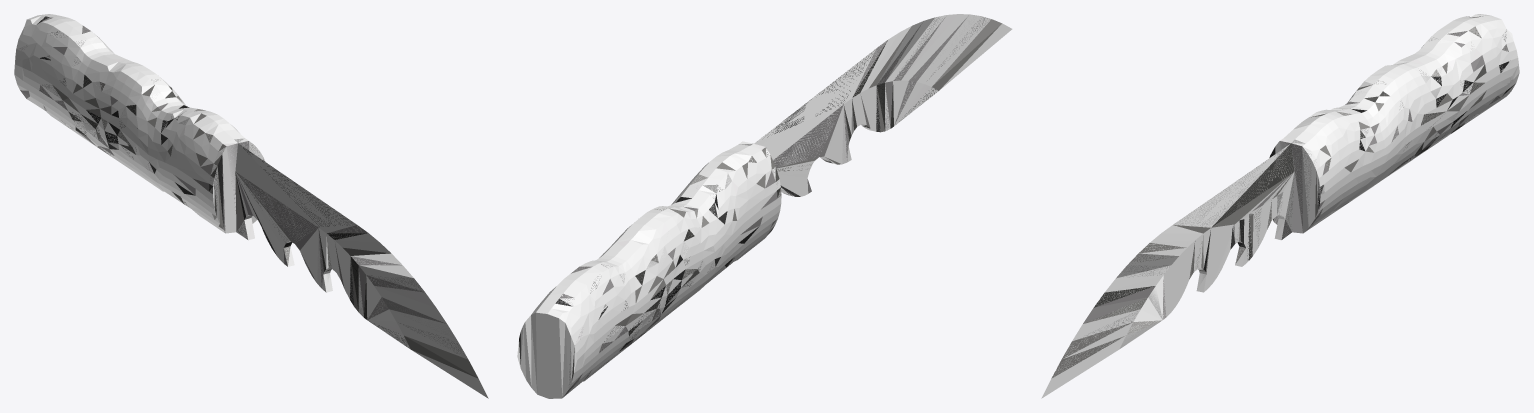
File: model_align.obj
The picture shows the model from 3 angles, left to right: view 1: azimuth 30°, elevation 25°; view 2: azimuth 150°, elevation 25°; view 3: azimuth 330°, elevation 25°; orthographic projection. The views are drawn at different scales.
Bounding box in the file's own units: 0.0158 × 0.0287 × 0.2194.
